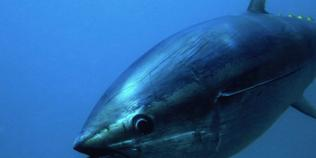Scombridae -Tunas-: (67, 0, 316, 158)
